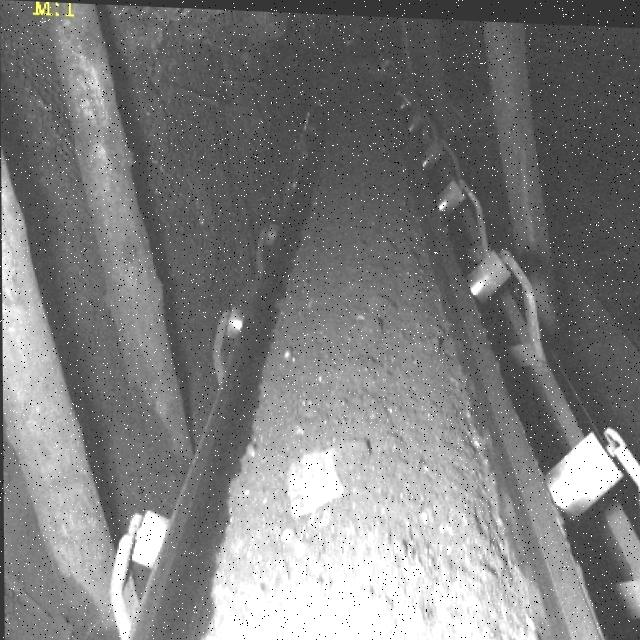large_sized_coal: (284, 435, 372, 515)
